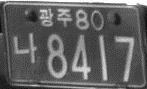0: (90, 10, 105, 31)
1: (96, 34, 110, 81)
4: (70, 33, 92, 79)
7: (113, 34, 136, 82)
8: (45, 33, 68, 80), (75, 9, 90, 31)
광주_O: (38, 7, 72, 27)
나: (13, 31, 38, 64)
